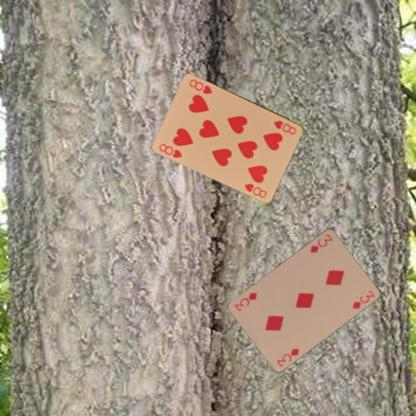3d: (307, 231, 334, 254), (274, 345, 301, 368)
8h: (156, 141, 184, 159), (271, 118, 298, 136)
